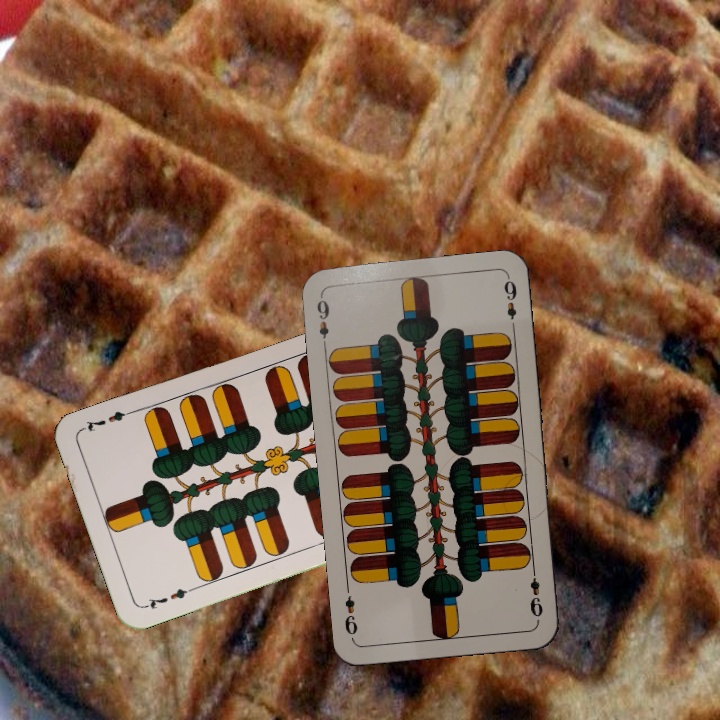E7: (140, 583, 197, 612)
E9: (312, 292, 332, 351), (526, 563, 546, 620)
